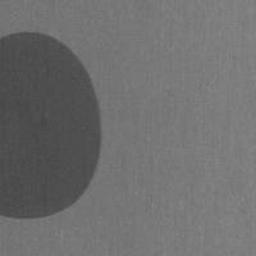Oil spot: (0, 29, 104, 221)
